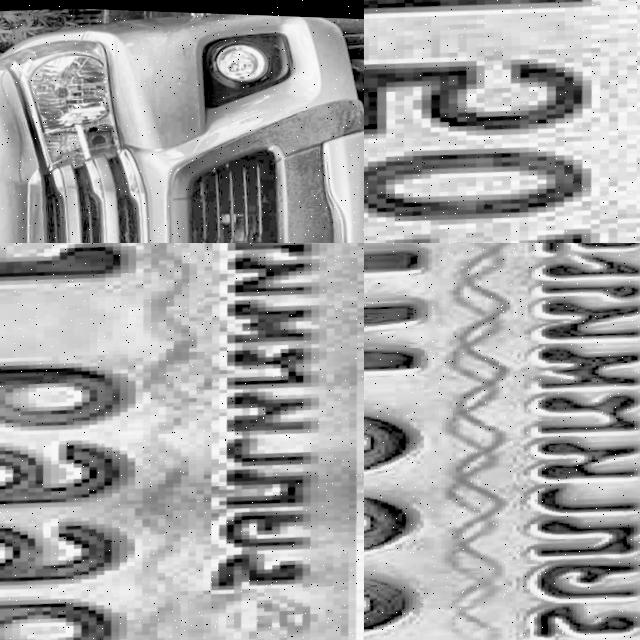license-plate: (0, 243, 364, 640), (364, 243, 640, 640), (364, 0, 640, 243)
